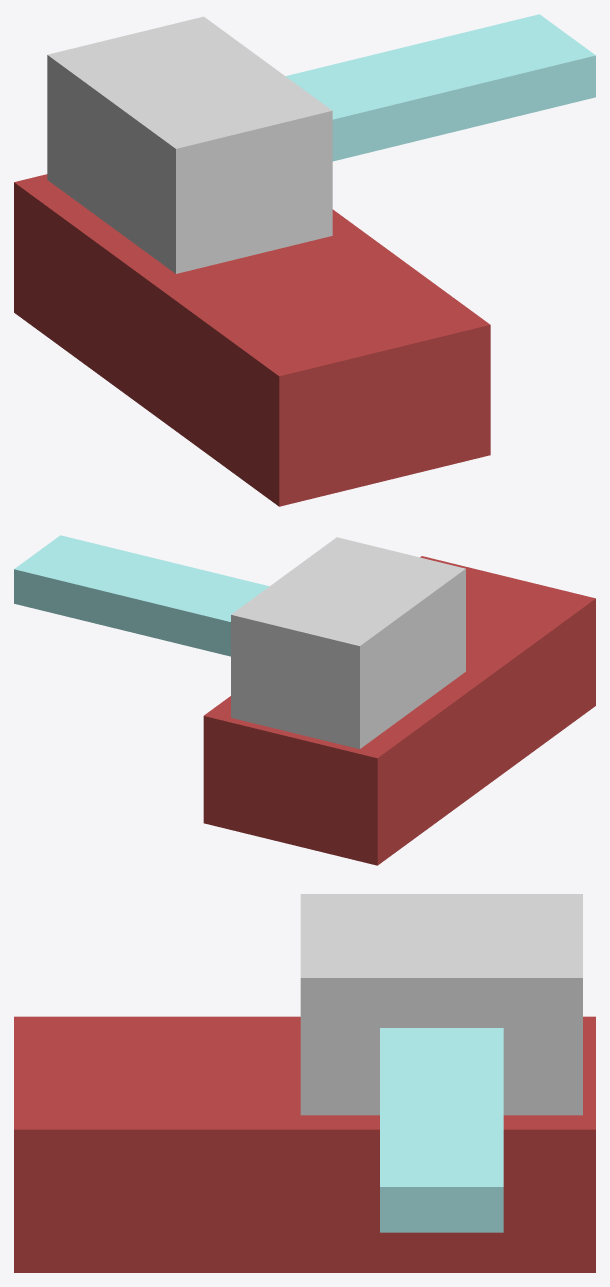
Rendered from parent.fbx.
3 views of the same model, one above another, from view 1: azimuth 30°, elevation 25°; view 2: azimuth 150°, elevation 25°; view 3: azimuth 270°, elevation 25° (orthographic). The views are drawn at different scales.
Parts seen in each view (by area): view 1: Cube, Cube.001, Cube.002; view 2: Cube, Cube.001, Cube.002; view 3: Cube, Cube.001, Cube.002.
Boxes of the visible parts, left/top/right/bottom form: Cube: left=14, top=174, right=490, bottom=506; Cube.001: left=47, top=16, right=332, bottom=273; Cube.002: left=285, top=14, right=595, bottom=161; Cube: left=203, top=556, right=595, bottom=865; Cube.001: left=231, top=537, right=465, bottom=749; Cube.002: left=14, top=535, right=269, bottom=656; Cube: left=14, top=1016, right=595, bottom=1272; Cube.001: left=300, top=894, right=582, bottom=1115; Cube.002: left=380, top=1028, right=503, bottom=1232.
Size of the model in its own units: 458 by 231 by 435.
